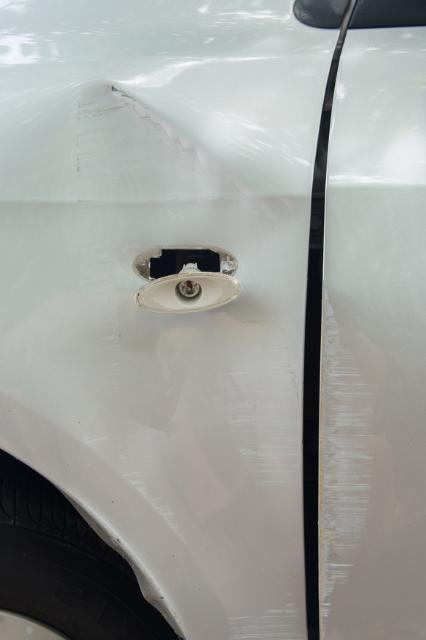Door: (313, 282, 389, 629)
Fender: (39, 56, 302, 332)
